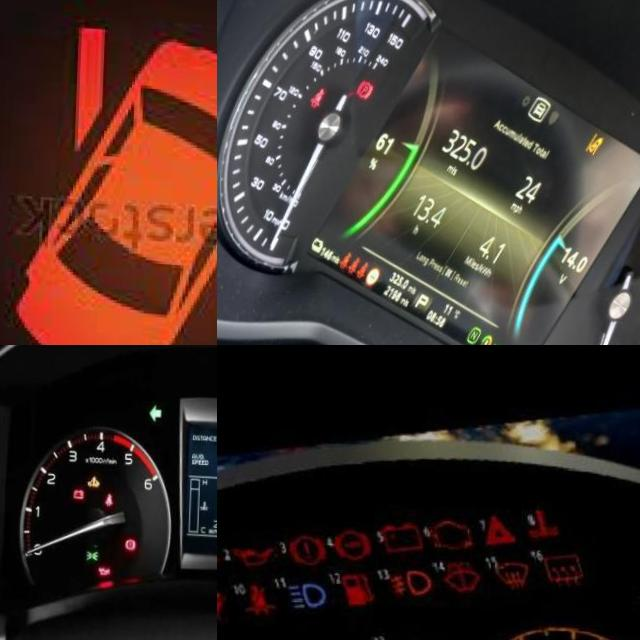Engine cooling system: (518, 485, 562, 528)
Low fuel level: (336, 556, 375, 601)
Seat Belt: (309, 84, 329, 107), (339, 248, 354, 266), (350, 251, 363, 270), (360, 258, 371, 277), (106, 490, 116, 504)
